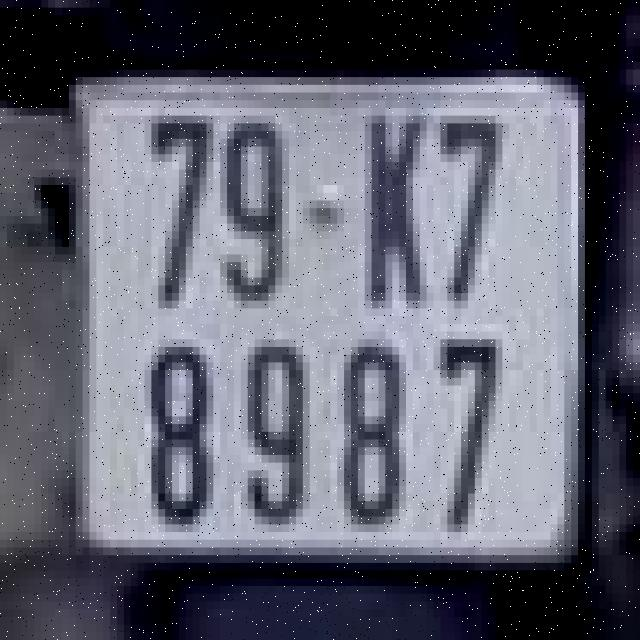7: (134, 112, 224, 312), (430, 332, 520, 532), (434, 104, 509, 305)
8: (141, 324, 217, 547), (337, 340, 406, 524)
9: (217, 108, 299, 308), (238, 324, 313, 524)
K: (344, 104, 441, 328)
